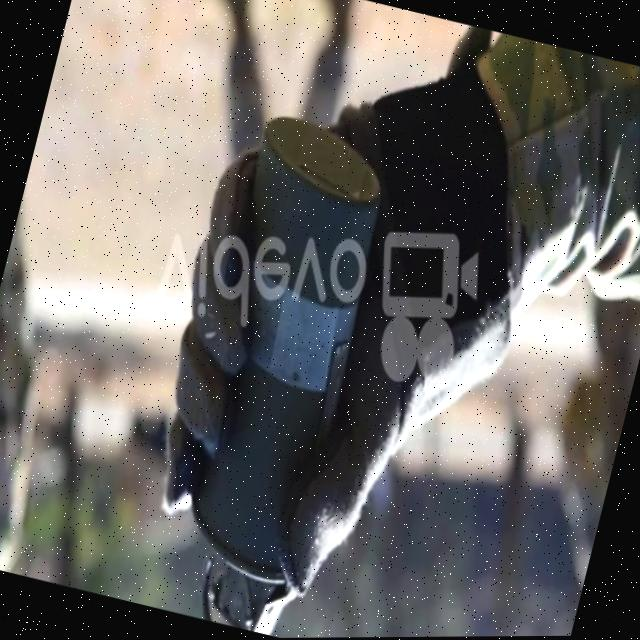grenade: (71, 70, 493, 640)
